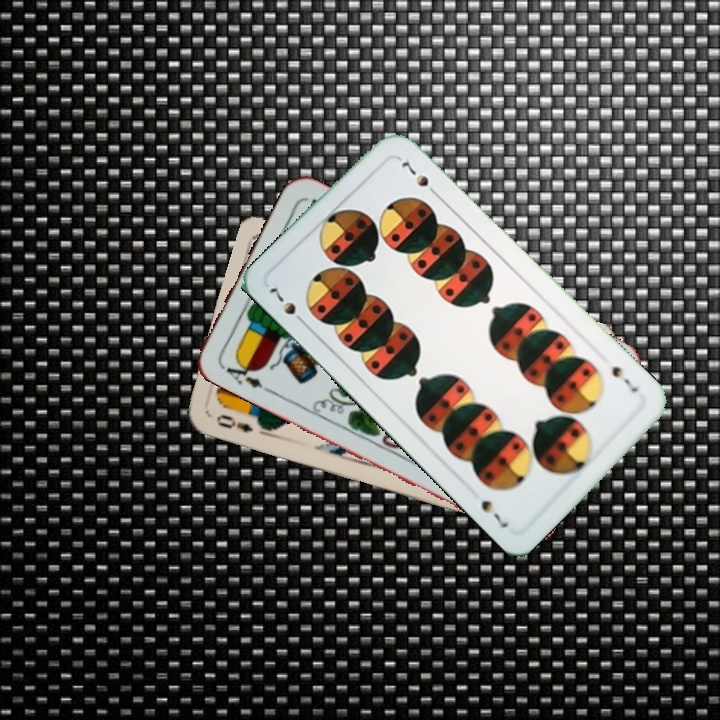EA: (217, 354, 265, 391)
EO: (212, 410, 256, 435)
S7: (265, 283, 310, 329), (607, 362, 640, 395)
